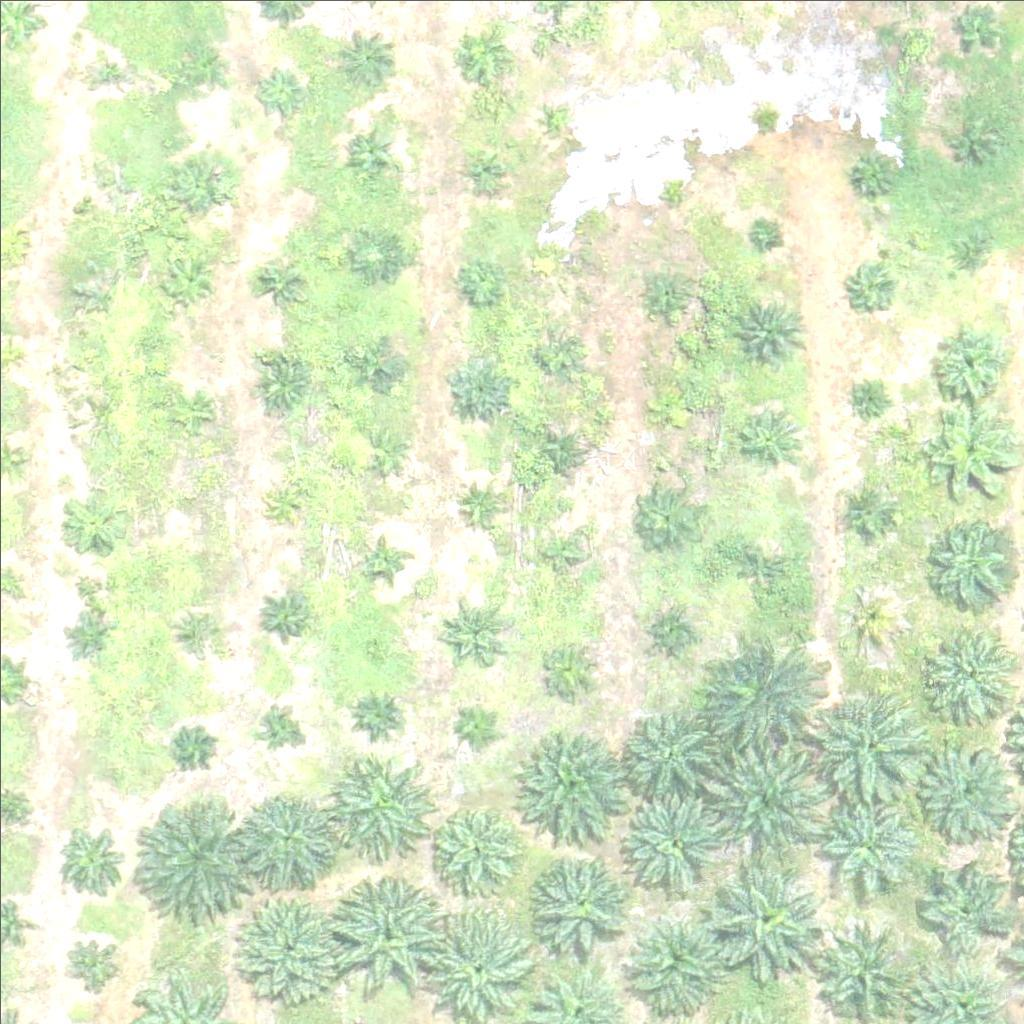Kelapa_Sawit: (322, 871, 447, 997), (704, 740, 829, 866), (696, 629, 821, 755), (126, 791, 251, 916), (517, 721, 630, 835), (237, 890, 350, 1003), (808, 684, 921, 797), (617, 791, 729, 905), (707, 871, 819, 985), (329, 740, 441, 853), (240, 791, 340, 892), (426, 797, 526, 898), (817, 795, 917, 896), (913, 849, 1013, 950), (918, 740, 1018, 841), (920, 405, 1020, 506), (533, 853, 633, 953), (620, 914, 720, 1014), (919, 623, 1007, 712), (925, 317, 1013, 405), (623, 706, 711, 794), (926, 528, 1013, 616), (732, 293, 807, 369), (52, 825, 127, 900), (331, 25, 394, 88), (446, 592, 509, 655), (540, 638, 603, 701), (173, 154, 236, 217), (444, 356, 507, 419), (529, 521, 592, 584), (637, 483, 699, 546), (737, 404, 799, 467), (250, 352, 312, 415), (156, 251, 218, 314), (60, 491, 122, 554), (733, 534, 795, 597), (350, 229, 400, 280), (352, 347, 402, 398), (532, 425, 582, 476), (63, 932, 113, 983), (456, 482, 506, 533), (531, 331, 581, 382), (652, 604, 702, 655), (643, 385, 693, 436), (455, 258, 505, 309), (257, 258, 307, 309), (83, 43, 133, 94), (171, 45, 221, 96), (253, 68, 303, 119), (345, 126, 395, 177), (842, 488, 892, 538), (352, 690, 402, 740), (456, 25, 506, 75), (258, 592, 308, 642), (62, 613, 112, 663), (162, 388, 212, 438), (359, 428, 409, 478), (451, 695, 501, 745), (637, 265, 687, 315), (460, 142, 510, 192), (848, 259, 898, 309), (845, 145, 895, 195), (948, 6, 998, 56), (948, 113, 998, 163), (941, 227, 991, 277), (841, 588, 891, 638), (173, 732, 211, 770), (265, 486, 303, 524), (362, 541, 400, 579), (257, 706, 294, 744), (180, 608, 217, 646), (168, 479, 205, 517), (85, 181, 122, 219), (753, 220, 778, 246), (548, 110, 573, 135), (660, 183, 685, 208), (852, 385, 877, 410)
